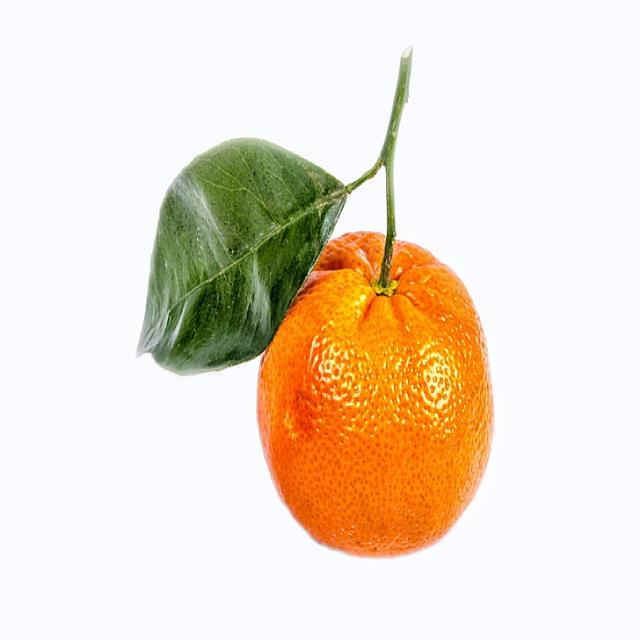orange: (138, 90, 502, 563)
